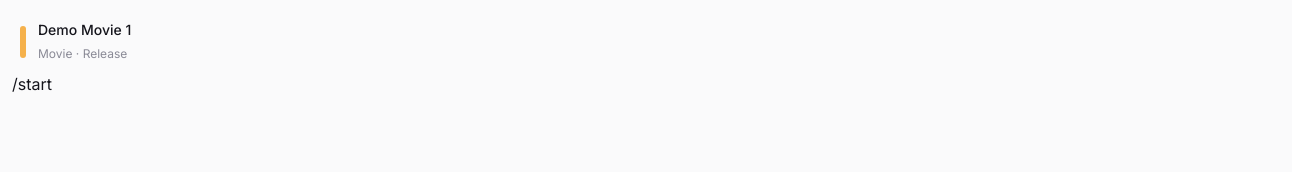
EventRow › navigates to the item detail for a catalogue event
Click the button.
click(85, 30)  # box [12,12,1281,72]
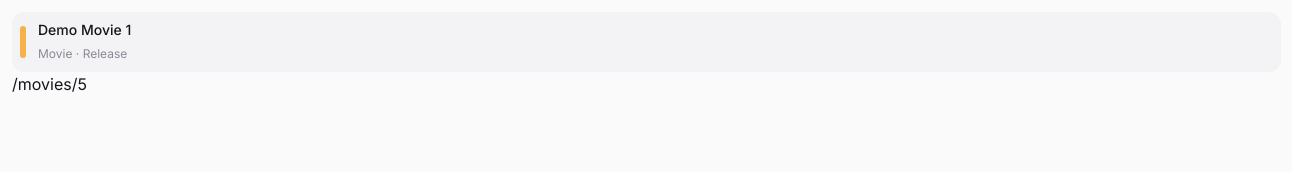
expect the text with test id "pathname" reads "/movies/5": met, box [12,74,87,94]
